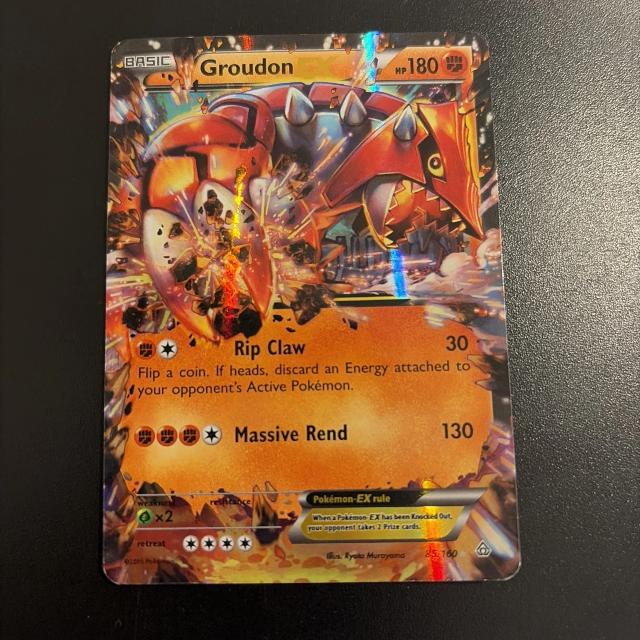Card: (95, 24, 531, 597)
Name: (194, 53, 301, 82)
